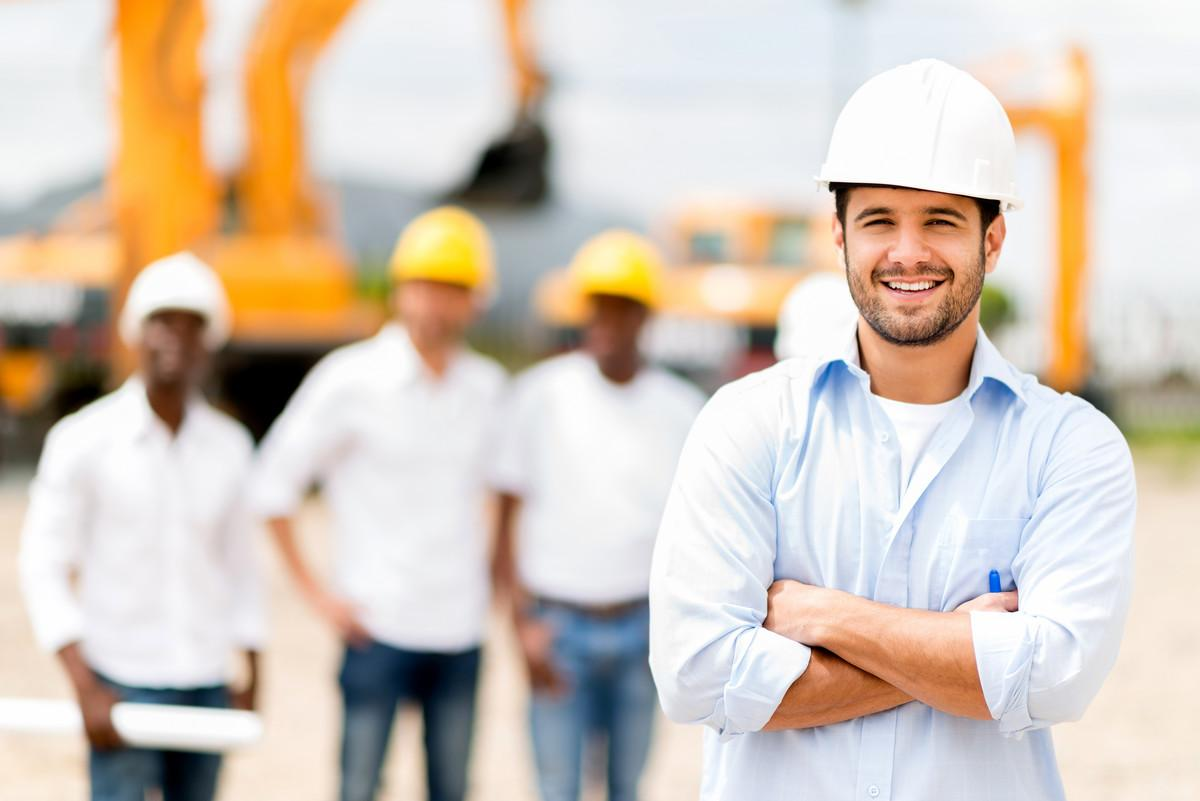helmet: (821, 59, 1020, 209), (122, 252, 229, 354), (389, 211, 497, 305), (569, 230, 656, 319)
